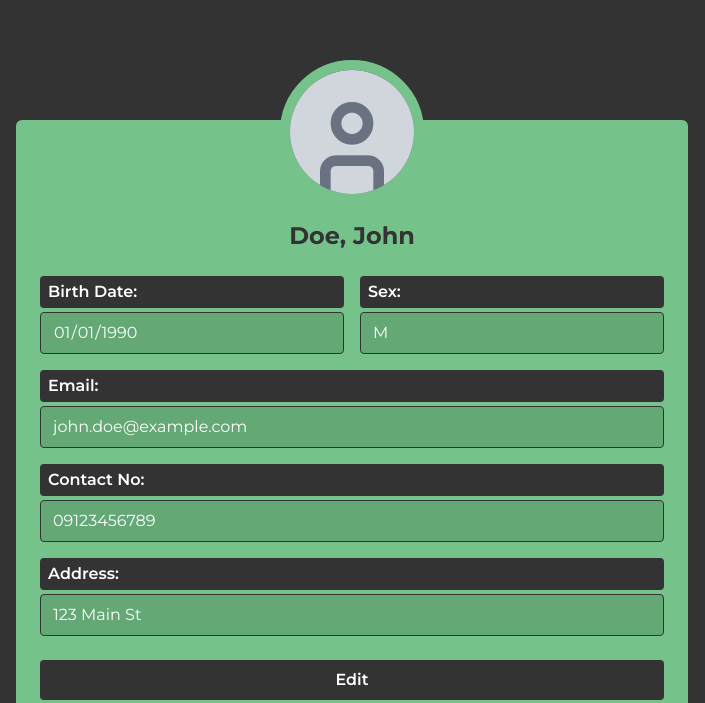
Scenario: Update Volunteer Profile › VolunteerProfile Page › discards changes when "Discard" is clicked
This screenshot has width=705, height=703.
expect the heading "Doe, John" is shown: met, box [289,221,415,250]
Click the button "Edit" at point(352, 680), box [40,660,664,700]
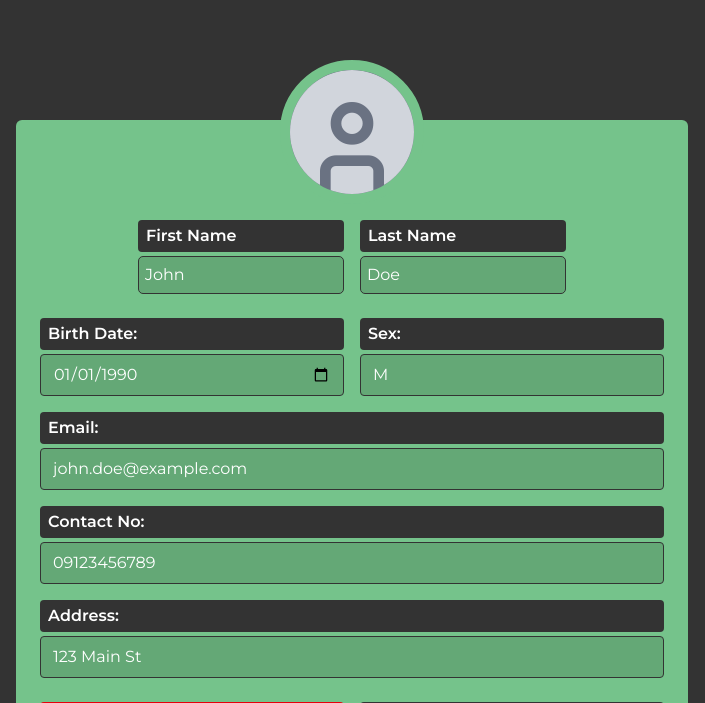
Replace the text in the field labelled "Email:" with "temp.email@example.com" at point(352, 469), box [40,448,664,490]
(page scrolled)
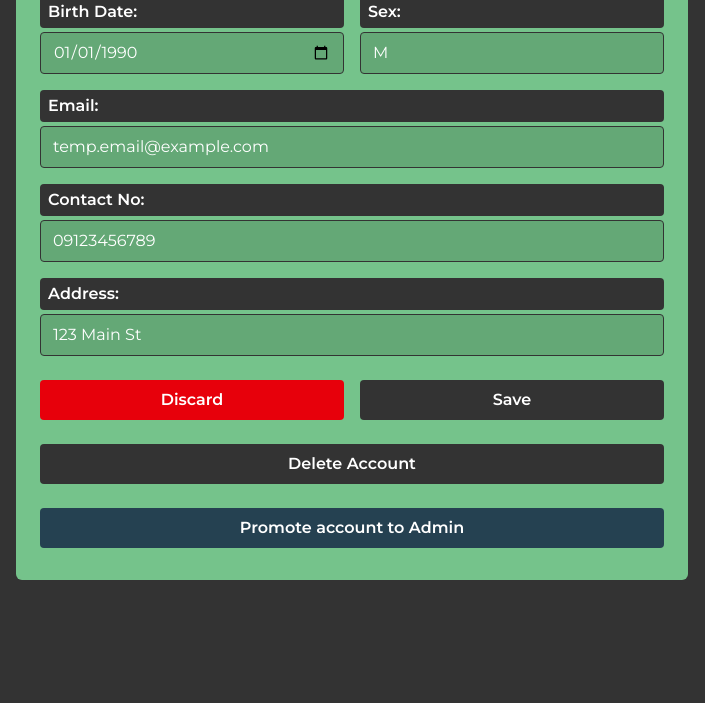
Click the button "Discard" at point(192, 400), box [40,380,344,420]
(page scrolled)
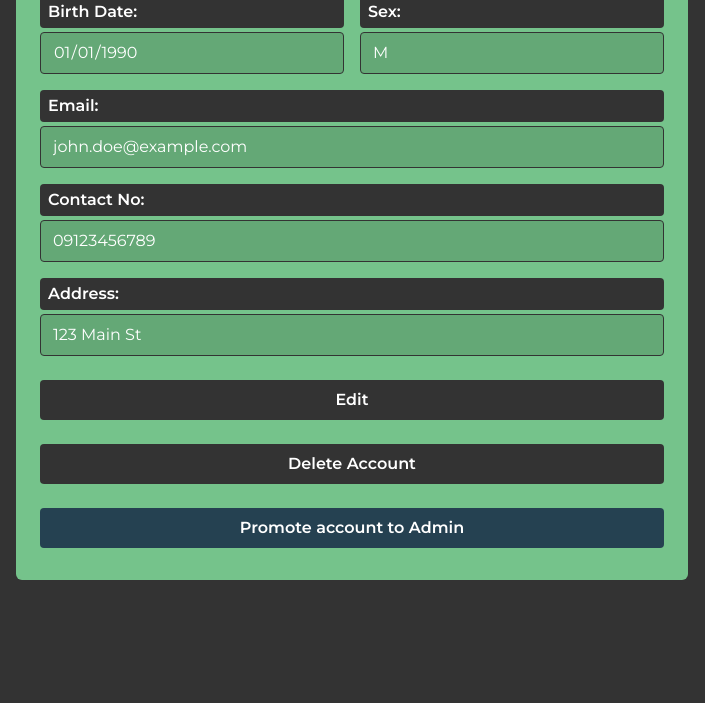
expect the field showing "john.doe@example.com" is shown: met, box [40,126,664,168]
